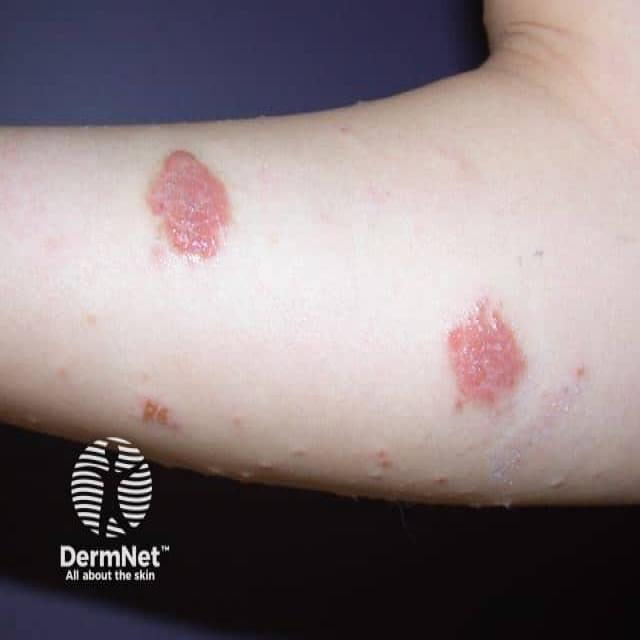Eczema: (141, 144, 233, 268), (449, 300, 532, 412)
